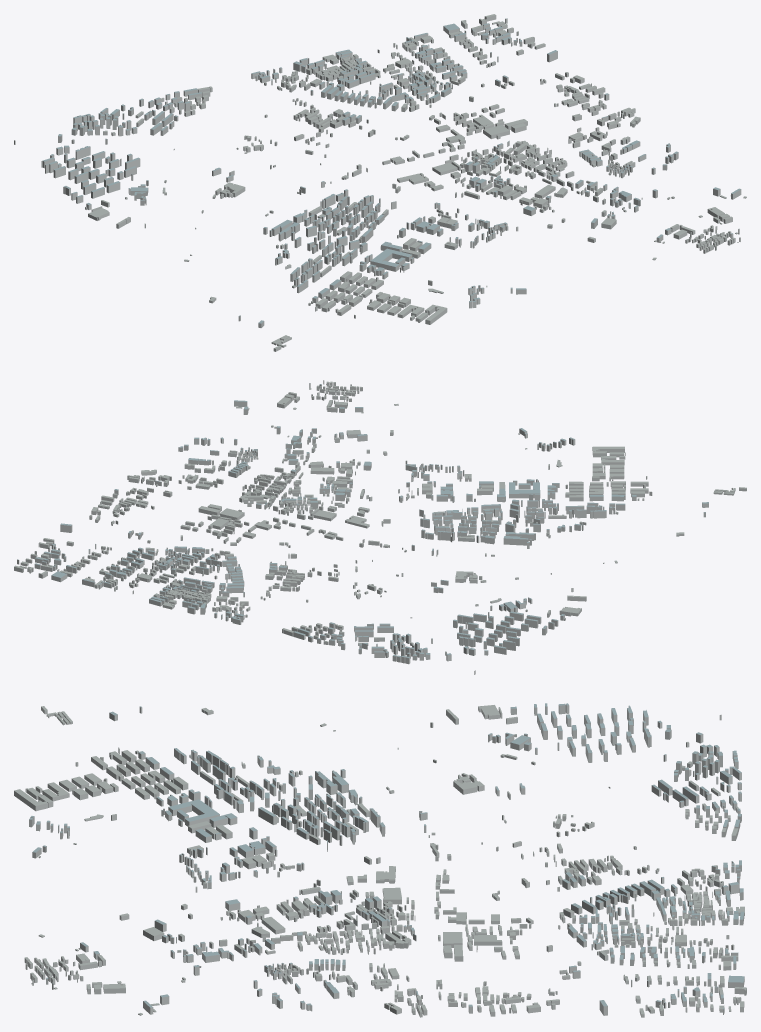
The picture shows the model from 3 angles, top to bottom: view 1: azimuth 30°, elevation 25°; view 2: azimuth 150°, elevation 25°; view 3: azimuth 270°, elevation 25°; orthographic projection. The views are drawn at different scales.
Parts seen in each view (by area): view 1: 上海全域建筑分块 · mapped building neighborhood; view 2: 上海全域建筑分块 · mapped building neighborhood; view 3: 上海全域建筑分块 · mapped building neighborhood.
Boxes of the visible parts, x1,y1,x2,y2 form: 上海全域建筑分块 · mapped building neighborhood: (14, 14, 746, 351); 上海全域建筑分块 · mapped building neighborhood: (14, 380, 746, 674); 上海全域建筑分块 · mapped building neighborhood: (14, 703, 746, 1017).
Bounding box in the file's own units: 2136 × 39.76 × 2141.
